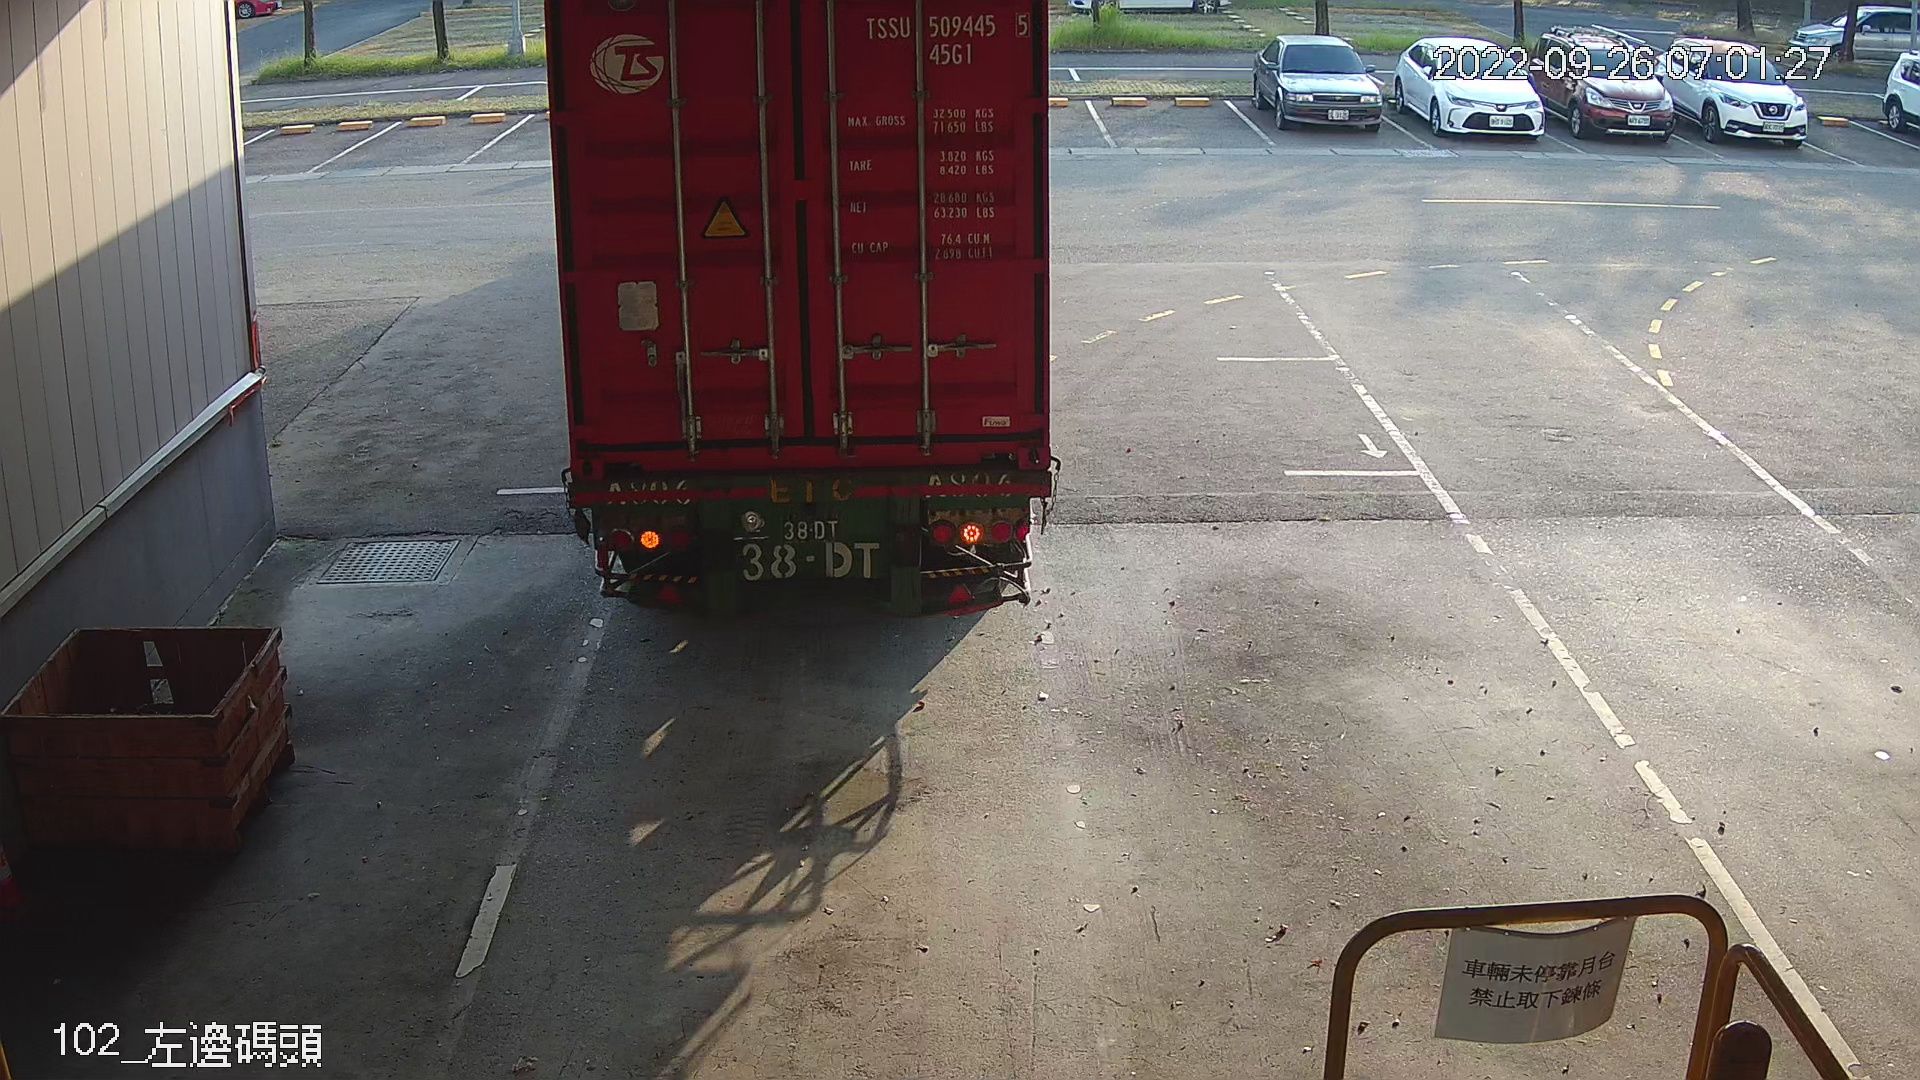container: (857, 7, 1038, 70)
